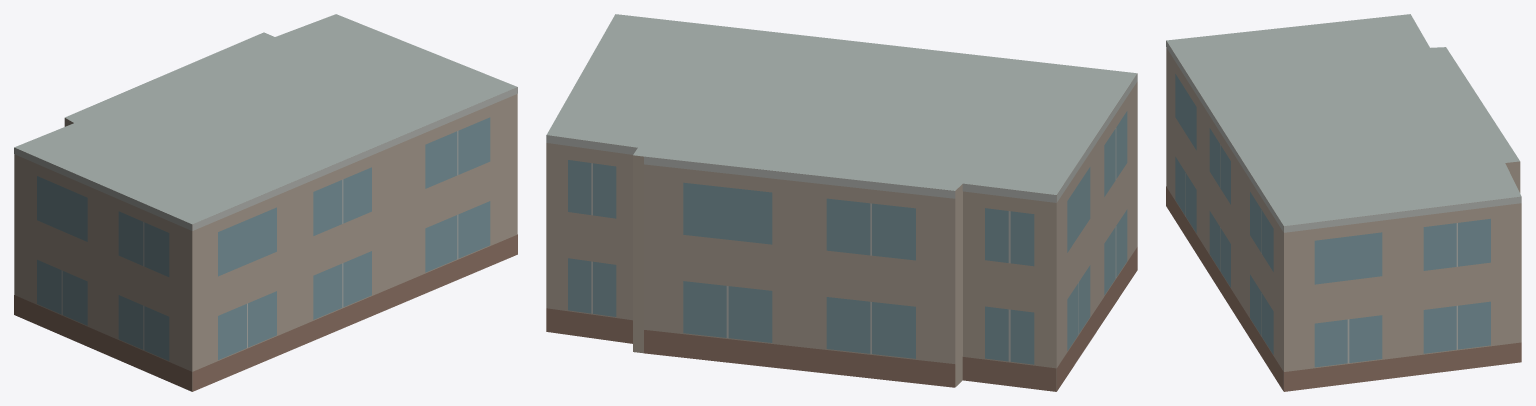
File: survey-upis-32984127.glb
The picture shows the model from 3 angles, left to right: view 1: azimuth 30°, elevation 25°; view 2: azimuth 150°, elevation 25°; view 3: azimuth 270°, elevation 25°; orthographic projection. The views are drawn at different scales.
Visible parts, largest first — view 1: survey-upis-32984127.tmp; view 2: survey-upis-32984127.tmp; view 3: survey-upis-32984127.tmp.
Boxes of the visible parts, x1,y1,x2,y2 form: survey-upis-32984127.tmp: [14, 14, 517, 391]; survey-upis-32984127.tmp: [546, 14, 1137, 391]; survey-upis-32984127.tmp: [1166, 14, 1521, 391].
Bounding box in the file's own units: 16.77 × 6.1 × 11.87.
